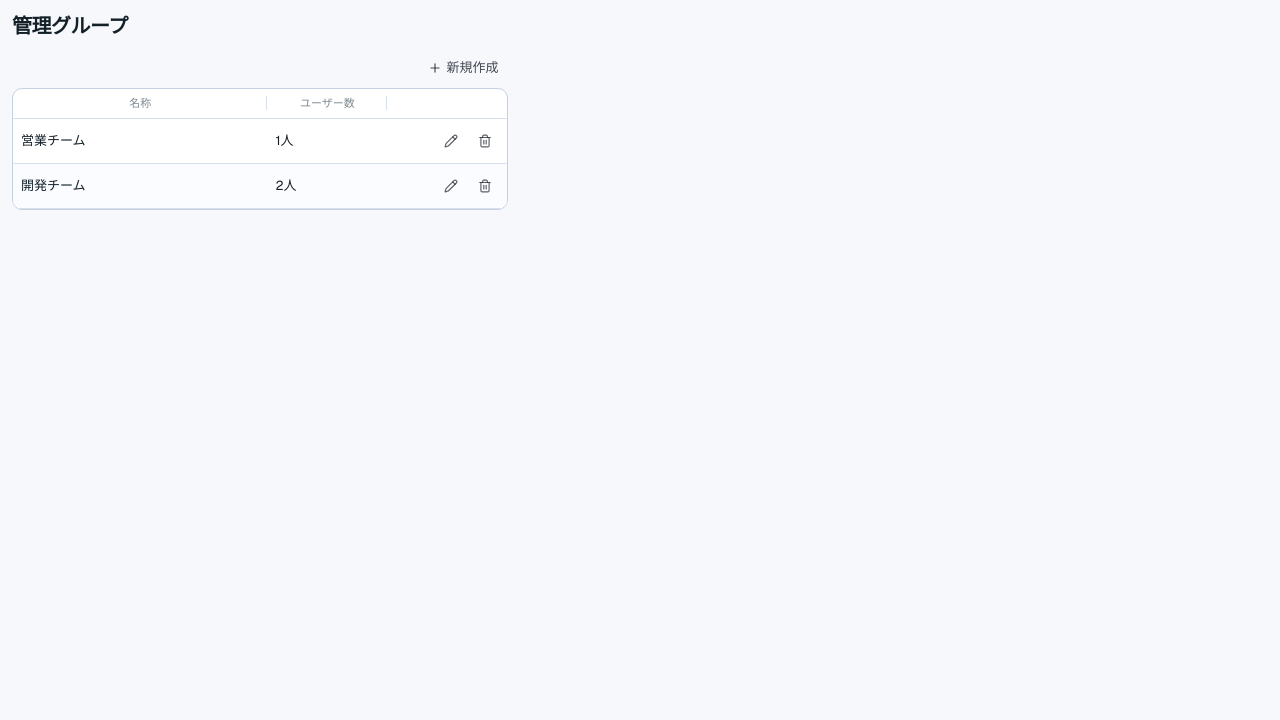
Test: GroupsAdminScreen（一覧のみ・set-0188） › 削除は確認ダイアログを挟んで DELETE を呼び、成功したら一覧から消える
Expected: the text "営業チーム" is shown, x1=21 y1=132 x2=86 y2=149
Click the button named "営業チーム を削除": (485, 140) x1=471 y1=126 x2=499 y2=154
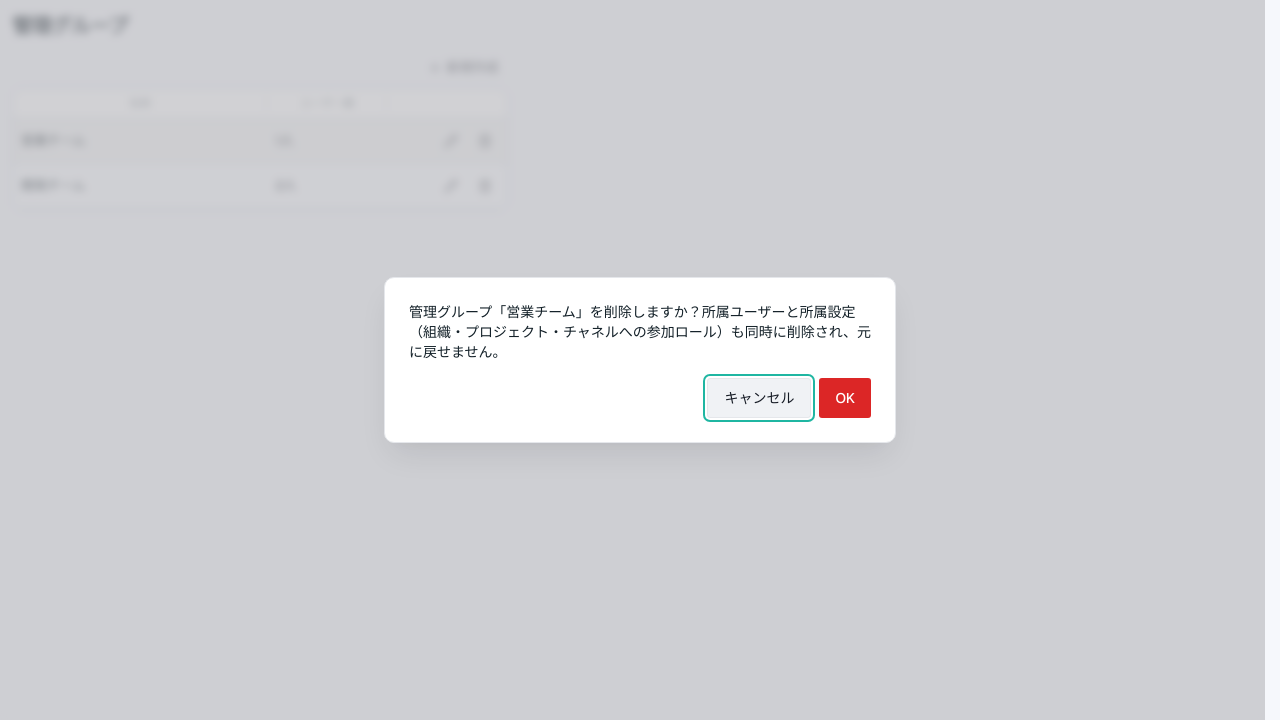
Expected: the dialog shows "管理グループ「営業チーム」を削除しますか？", x1=409 y1=303 x2=871 y2=361
Expected: the dialog shows "所属設定", x1=409 y1=303 x2=871 y2=361
Click the button "OK": (845, 398) x1=820 y1=378 x2=871 y2=418
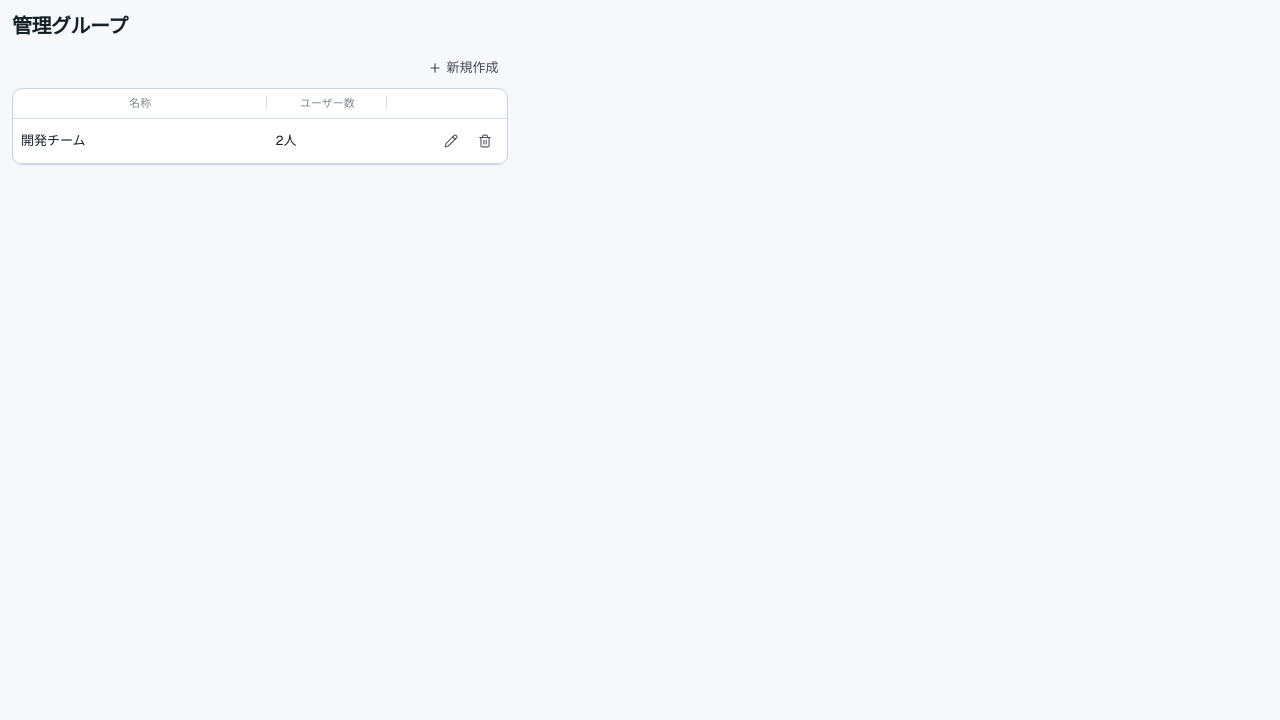
Expected: the text "開発チーム" is shown, x1=21 y1=132 x2=86 y2=149
Expected: the text "営業チーム" is gone
